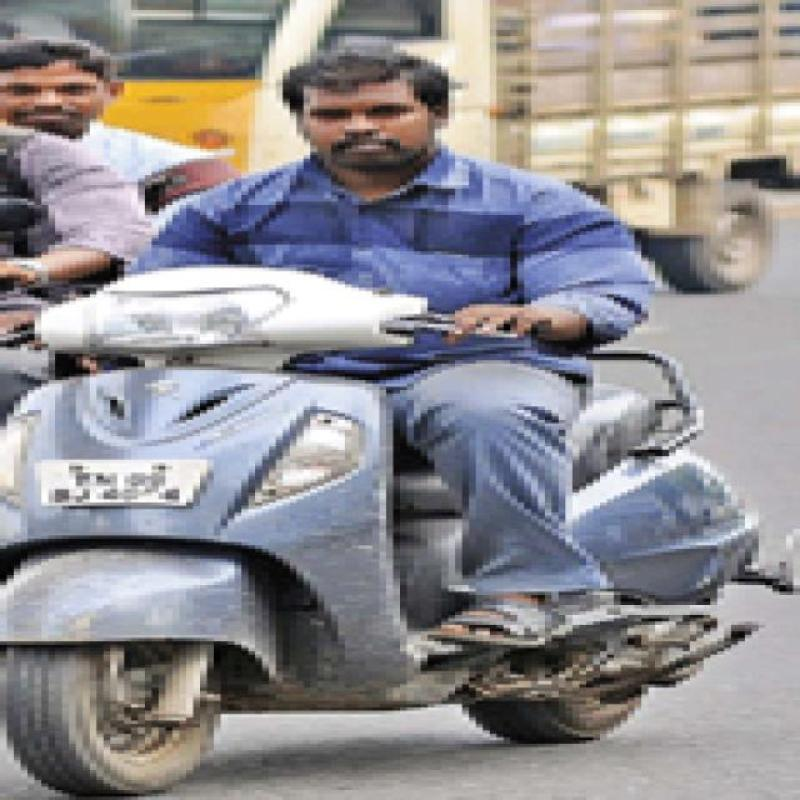nohelmet: (256, 51, 472, 190)
